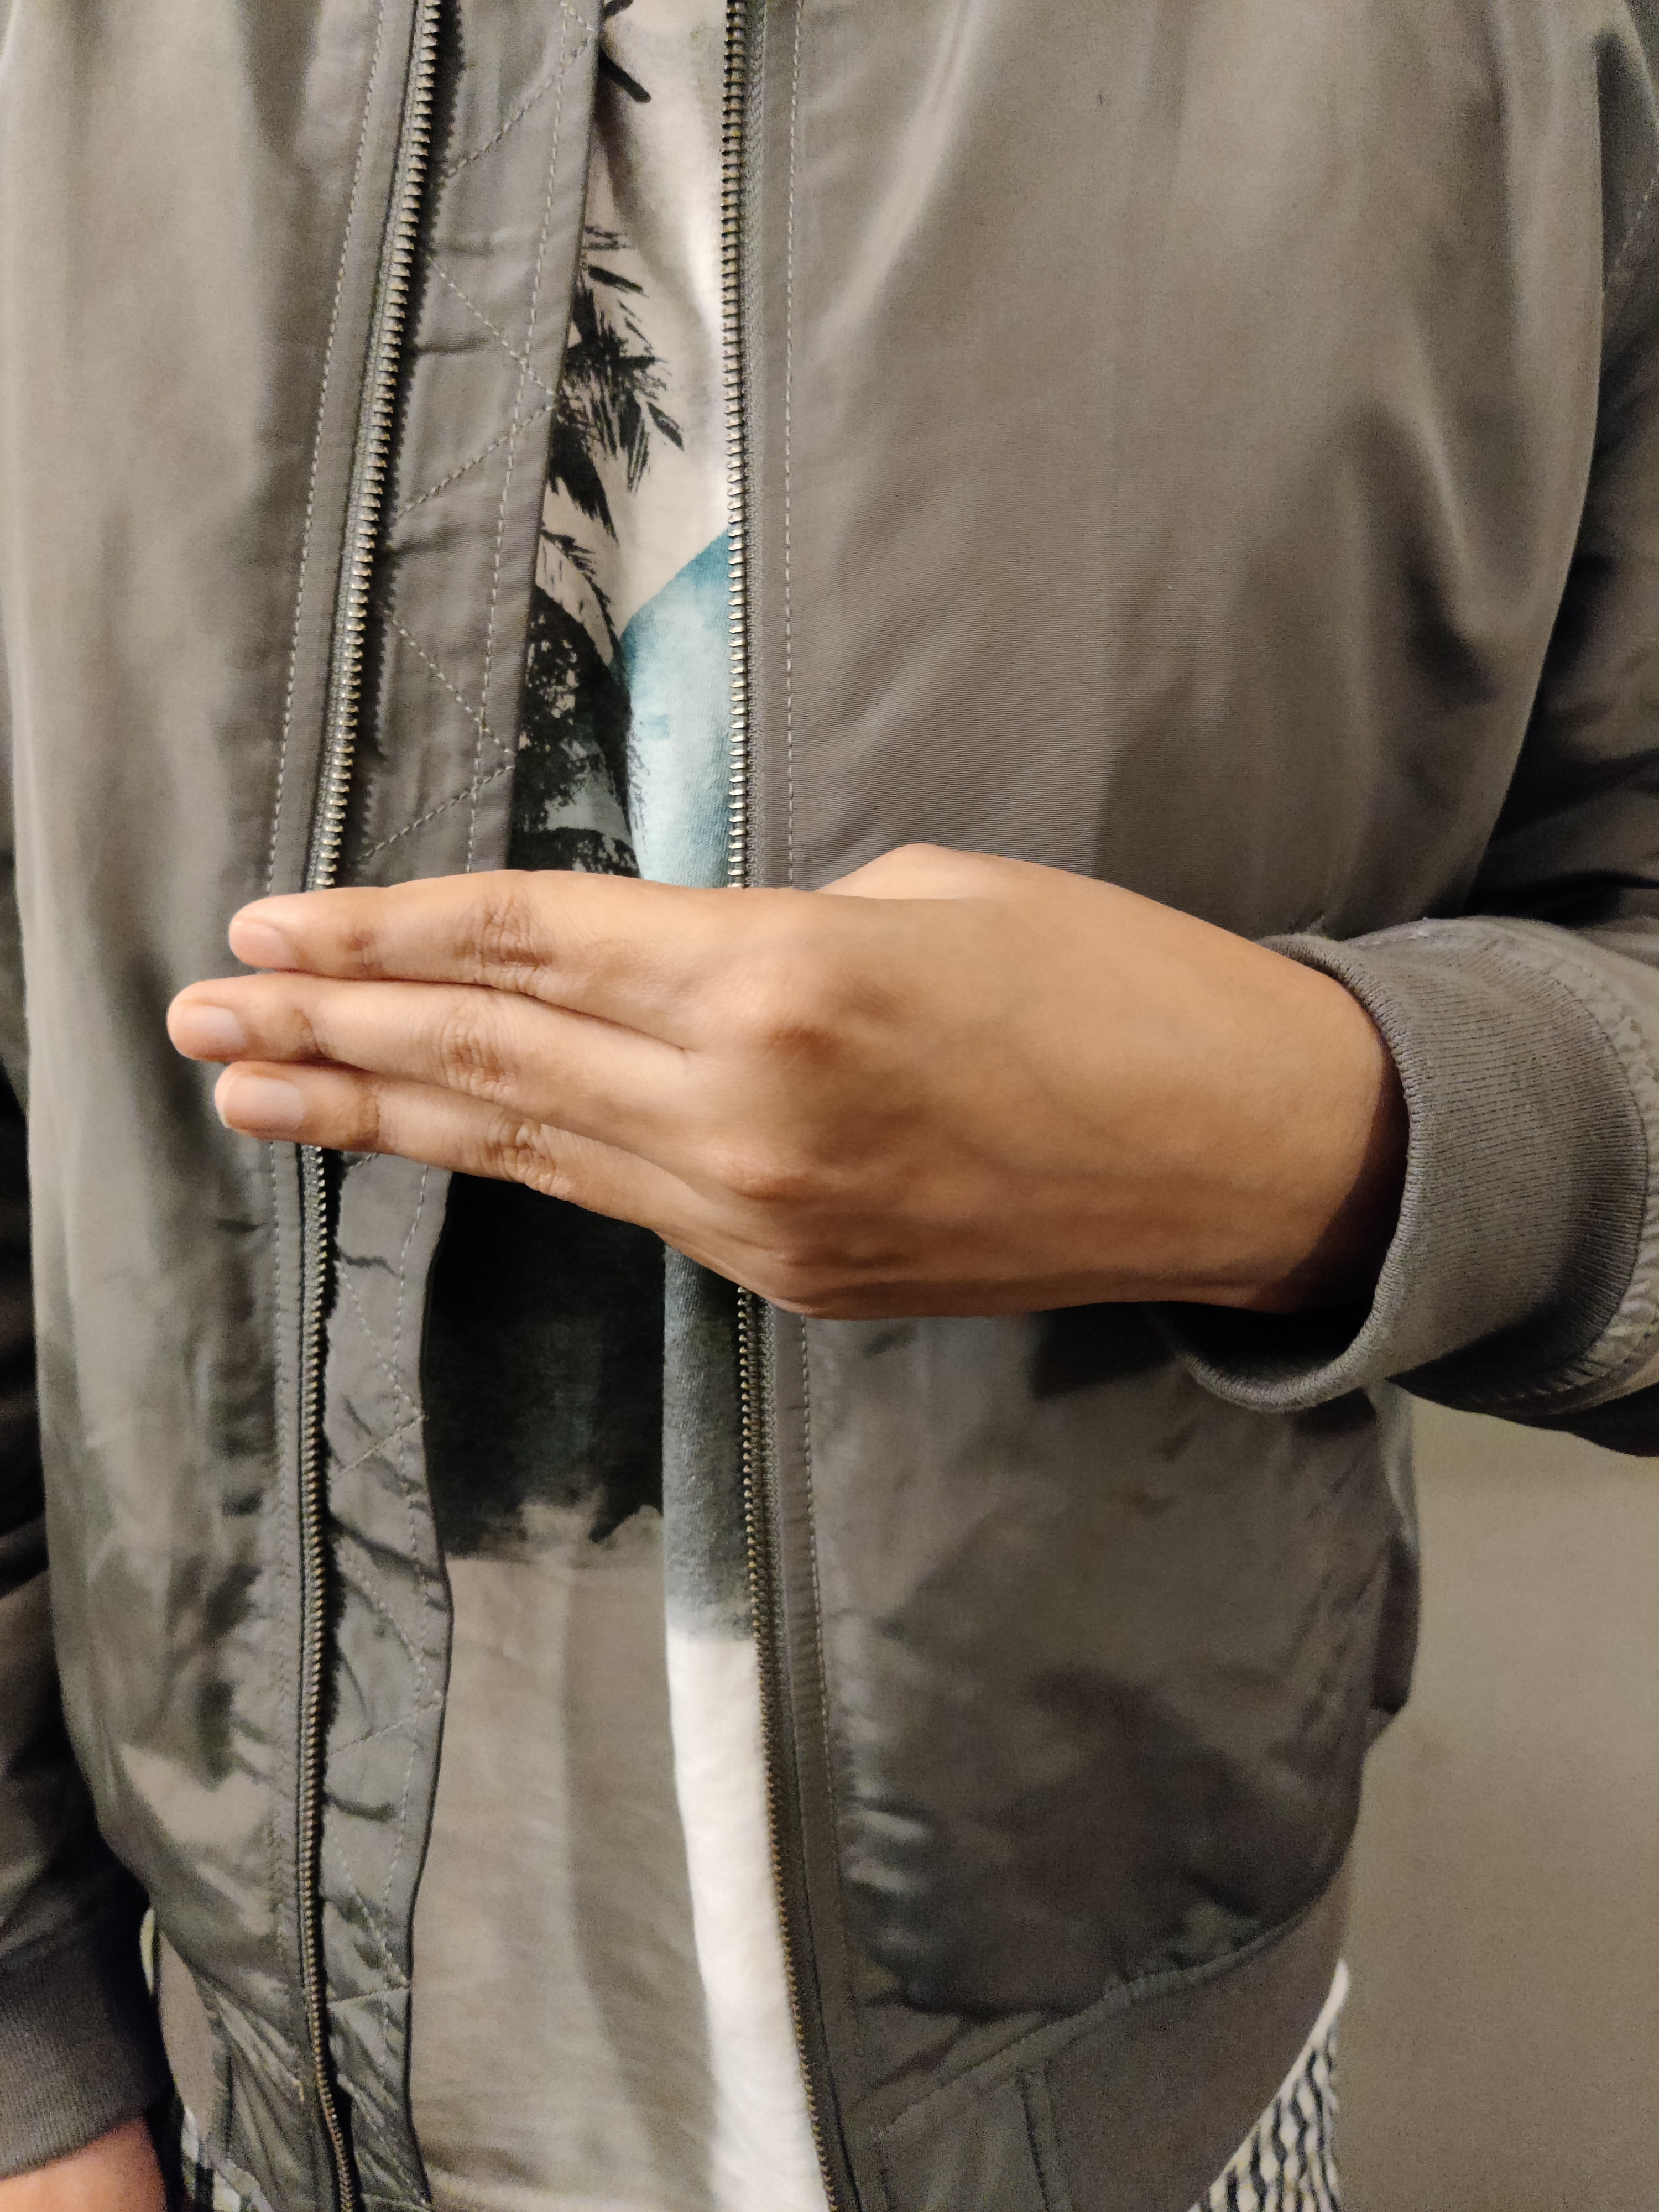right: (82, 575, 1568, 1615)
